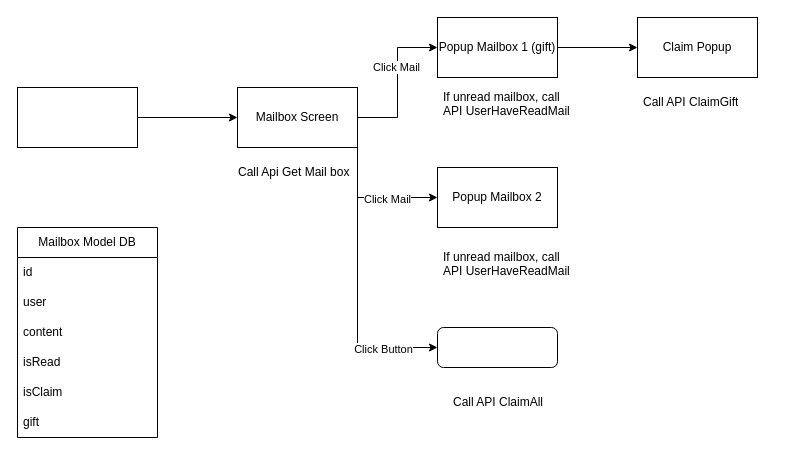
The diagram is 800 pixels wide and 455 high, and some of its shapes have lost their labels. The shapes that lost their labels are listed below. From the top down, each one's centre as x and y in pixels, then its label:
At (x=77, y=117): "Home Screen".
At (x=497, y=347): "Claim All (Button)".
